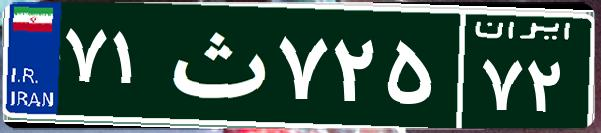1: (110, 28, 158, 105)
2: (330, 28, 385, 110), (525, 38, 570, 115)
5: (385, 28, 445, 110)
7: (273, 28, 330, 110), (57, 26, 110, 107), (475, 38, 525, 113)
ث: (158, 15, 273, 115)
